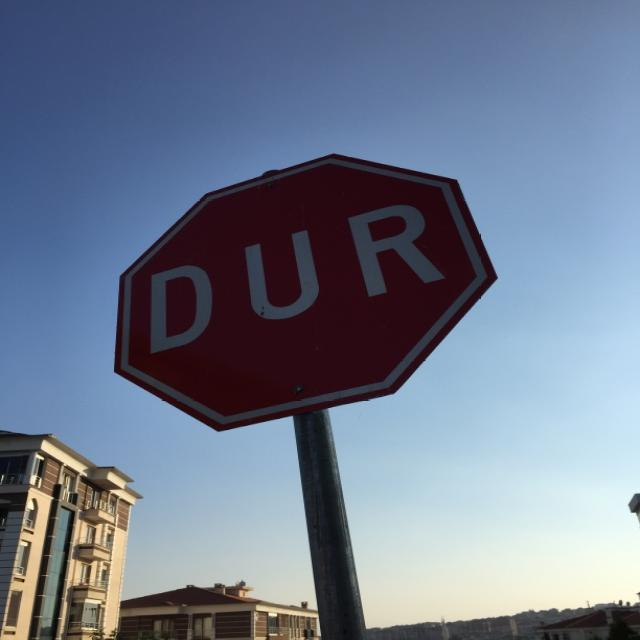dur: (110, 151, 503, 434)
